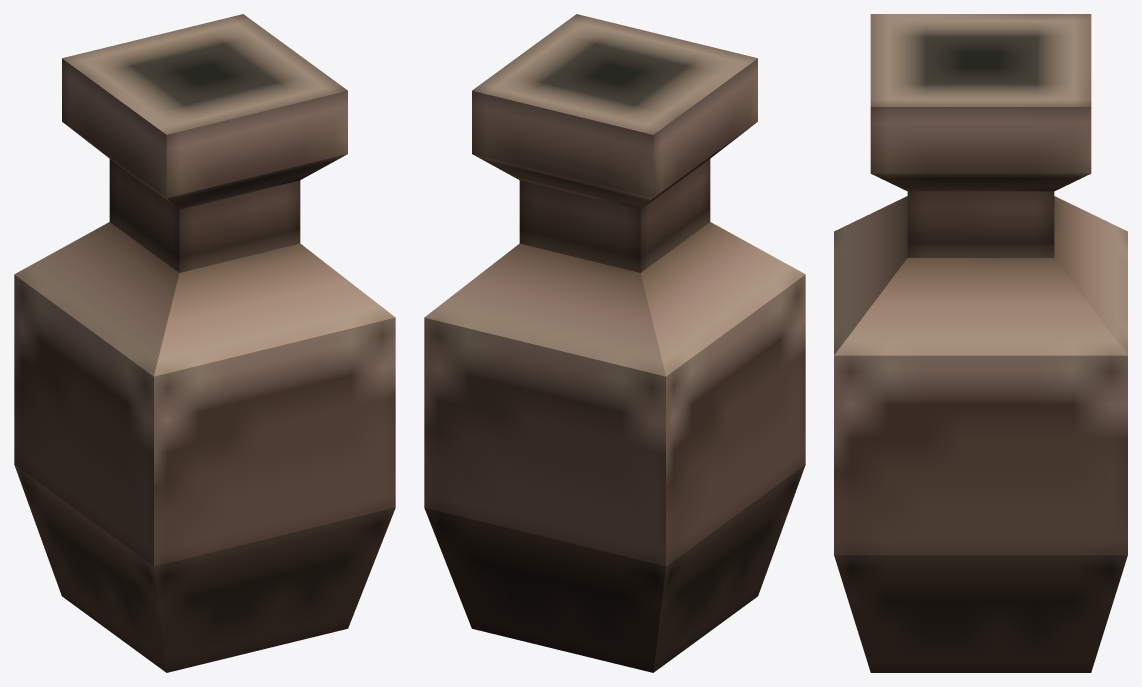
Rendered from vase_01.fbx.
3 renders of one model, left to right at view 1: azimuth 30°, elevation 25°; view 2: azimuth 150°, elevation 25°; view 3: azimuth 270°, elevation 25°, orthographic. The views are drawn at different scales.
Visible parts, largest first — view 1: vase_01; view 2: vase_01; view 3: vase_01.
Boxes of the visible parts, <box> form: vase_01: <box>14,14,395,672</box>; vase_01: <box>424,14,805,672</box>; vase_01: <box>834,14,1127,672</box>.
Bounding box in the file's own units: 8 × 17 × 8.
